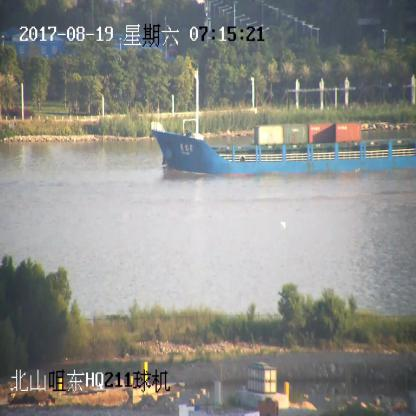Bulk Carrier: (152, 71, 416, 174)
